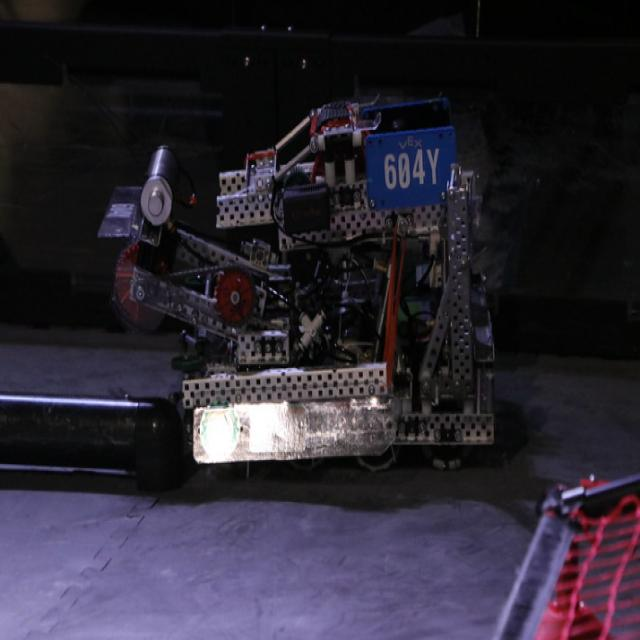License-Plates: (368, 125, 458, 214)
